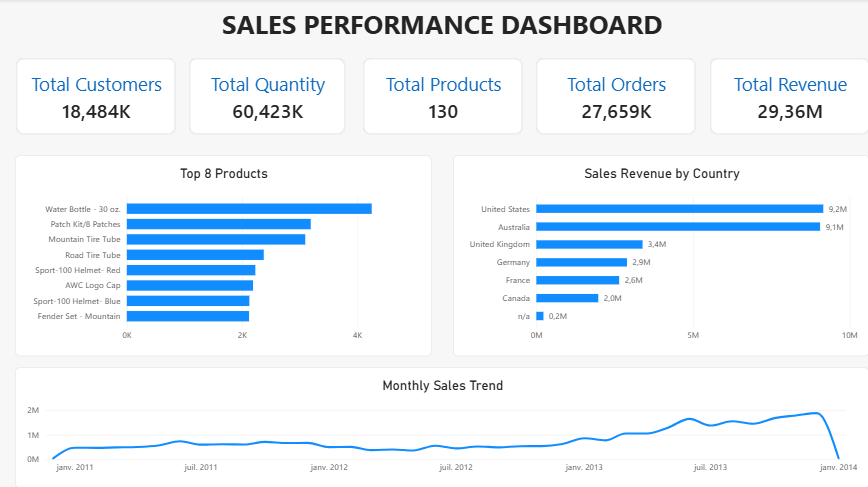

Layout of this report page (visuals, bound fields, positions):
{"tool":"powerbi","page":{"name":"Page 1","canvas":[1280,720],"ordinal":0},"visuals":[{"type":"cardVisual","title":"Total Revenue","fields":{"Data":["gold fact_sales.Total Revenue"]},"box":[1025,85,230,110],"z":0},{"type":"cardVisual","title":"Total Revenue","fields":{"Data":["gold fact_sales.Total Orders"]},"box":[775,85,230,110],"z":1},{"type":"cardVisual","title":"Total Revenue","fields":{"Data":["gold fact_sales.Total Products"]},"box":[525,85,230,110],"z":2},{"type":"cardVisual","title":"Total Revenue","fields":{"Data":["gold fact_sales.Total Quantity"]},"box":[275,85,225,110],"z":3},{"type":"cardVisual","title":"Total Revenue","fields":{"Data":["gold fact_sales.Total Customers"]},"box":[25.4,85,230,110],"z":4},{"type":"clusteredBarChart","title":"Top 8 Products","fields":{"Category":["gold dim_products.product_name"],"Y":["gold fact_sales.Total Quantity"]},"box":[25,225,600,290],"z":5},{"type":"clusteredBarChart","title":"Sales Revenue by Country","fields":{"Category":["gold dim_customers.country"],"Y":["gold fact_sales.Total Revenue"]},"box":[655,225,600,290],"z":6},{"type":"lineChart","title":"Monthly Sales Trend","fields":{"Category":["gold fact_sales.order_date.Variation.Hiérarchie de dates.Année","gold fact_sales.order_date.Variation.Hiérarchie de dates.Mois"],"Y":["gold fact_sales.Total Revenue"]},"box":[25,530,1230,175],"z":7},{"type":"textbox","box":[25,10,1230,65],"z":8}]}

Visuals, with their boxes in screenshot pixels (x1, y1, x2, y2), scaled from the page's 1280x720 canvas onto the 868x487 screenshot:
"Total Revenue" cardVisual: bbox=[695, 57, 851, 132]
"Total Revenue" cardVisual: bbox=[526, 57, 682, 132]
"Total Revenue" cardVisual: bbox=[356, 57, 512, 132]
"Total Revenue" cardVisual: bbox=[186, 57, 339, 132]
"Total Revenue" cardVisual: bbox=[17, 57, 173, 132]
"Top 8 Products" clusteredBarChart: bbox=[17, 152, 424, 348]
"Sales Revenue by Country" clusteredBarChart: bbox=[444, 152, 851, 348]
"Monthly Sales Trend" lineChart: bbox=[17, 358, 851, 477]
textbox: bbox=[17, 7, 851, 51]
